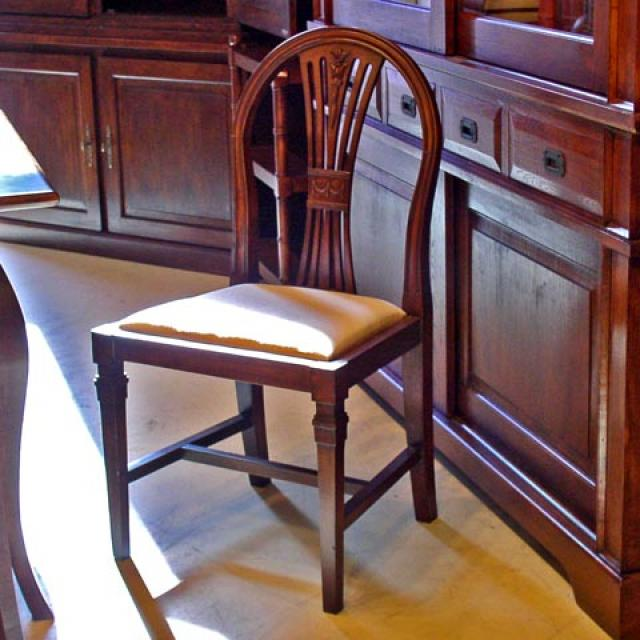Chair: (69, 15, 489, 640)
